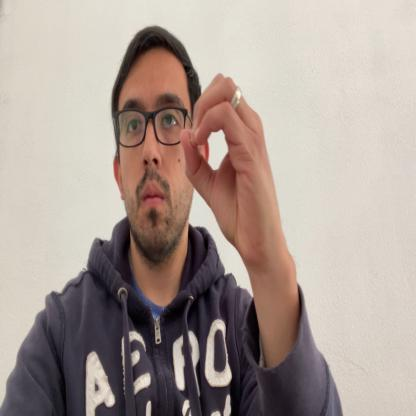O: (180, 74, 279, 272)
